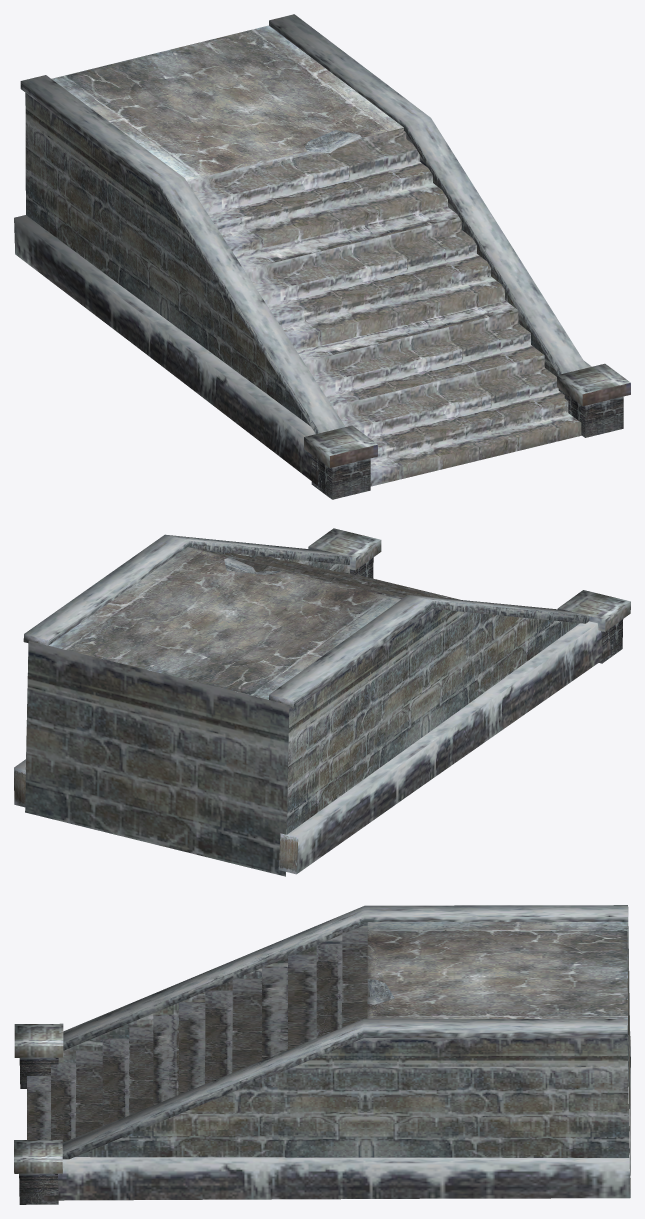
The model's file is S_Build_Snowland135.FBX.
3 renders of one model, top to bottom at view 1: azimuth 30°, elevation 25°; view 2: azimuth 150°, elevation 25°; view 3: azimuth 270°, elevation 25°, orthographic. The views are drawn at different scales.
Parts seen in each view (by area): view 1: S_Build_Snowland135; view 2: S_Build_Snowland135; view 3: S_Build_Snowland135.
Boxes of the visible parts, x1,y1,x2,y2 form: S_Build_Snowland135: (14,14,630,499); S_Build_Snowland135: (14,528,630,876); S_Build_Snowland135: (14,905,630,1204).
Bounding box in the file's own units: 490 × 922 × 283.
